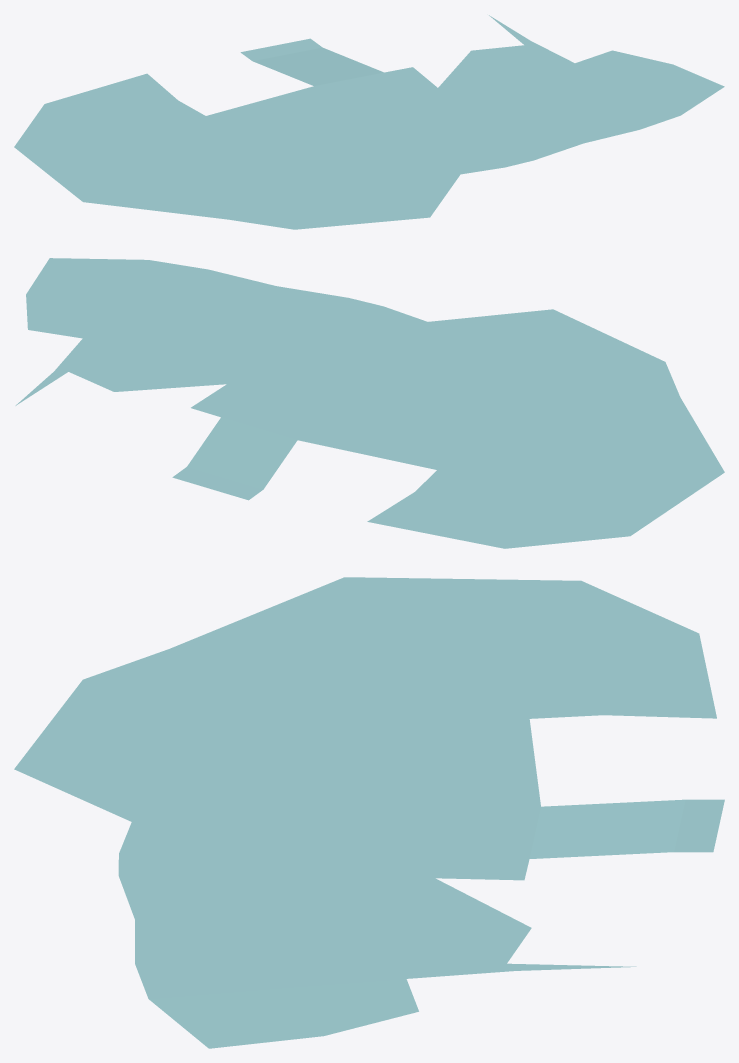
The model's file is Water_Plane.fbx.
The picture shows the model from 3 angles, top to bottom: view 1: azimuth 30°, elevation 25°; view 2: azimuth 150°, elevation 25°; view 3: azimuth 270°, elevation 25°; orthographic projection. The views are drawn at different scales.
Visible parts, largest first — view 1: polySurface678; view 2: polySurface678; view 3: polySurface678.
Boxes of the visible parts, x1=… form: polySurface678: x1=14, y1=15, x2=724, y2=229; polySurface678: x1=15, y1=258, x2=724, y2=548; polySurface678: x1=14, y1=577, x2=724, y2=1048.
Size of the model in its own units: 156117 by 951 by 99501.
